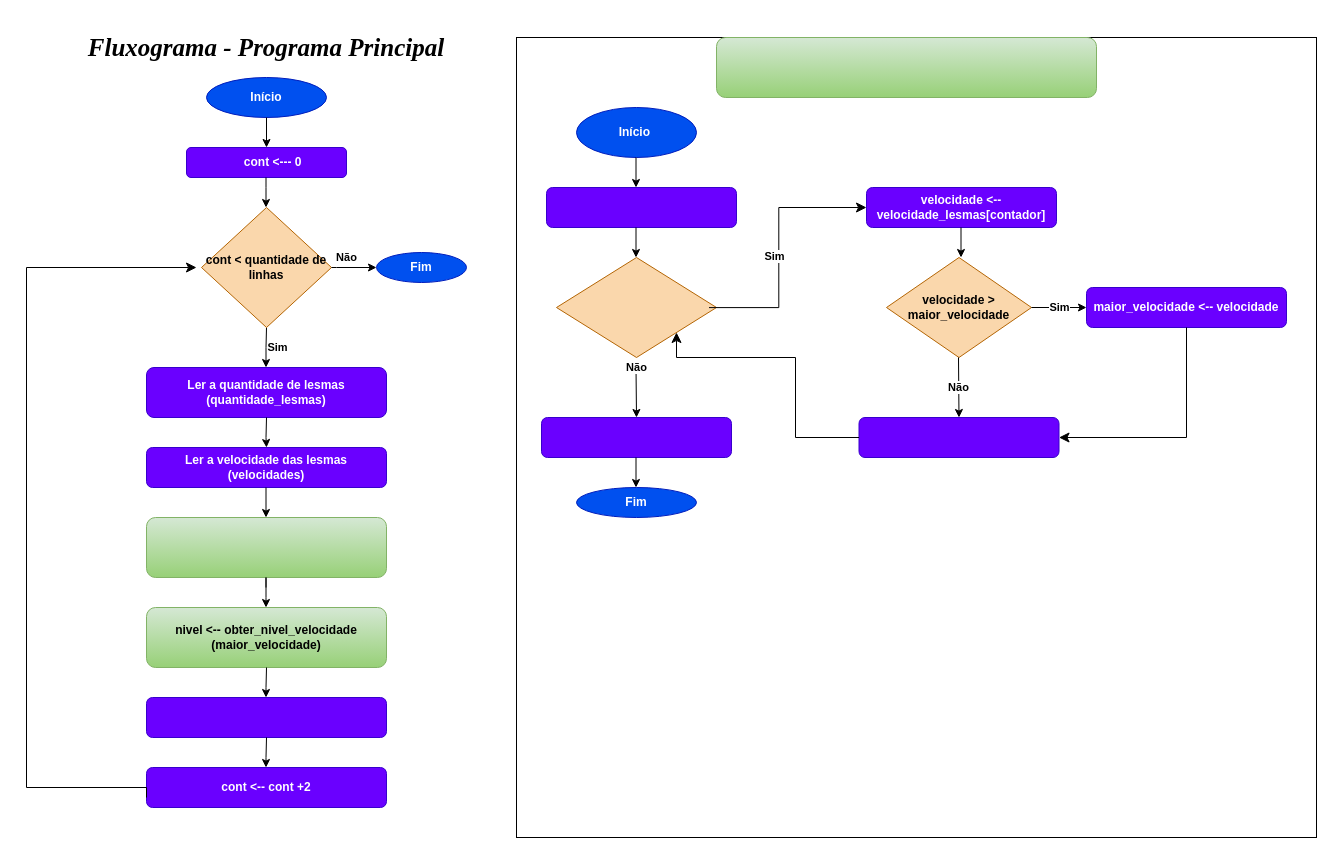
Some shapes in this 1334 by 855 pixel diagram are drawn without their labels. Each missing label, with the centre of its shape:
contador < quantidade_lesmas?: point 636,307
contador <-- contador + 1: point 958,437
Exibir nivel: point 266,717
Função: calcular_maior_velocidade (quantidade_lesmas , velocidade_lesmas): point 906,67
maior_velocidade <-- 0 contador <-- 0: point 641,207
maior_velocidade <-- calcular_maior_velocidade (quantidade _lesmas, velocidades): point 266,547
Retornar maior_velocidade: point 636,437
